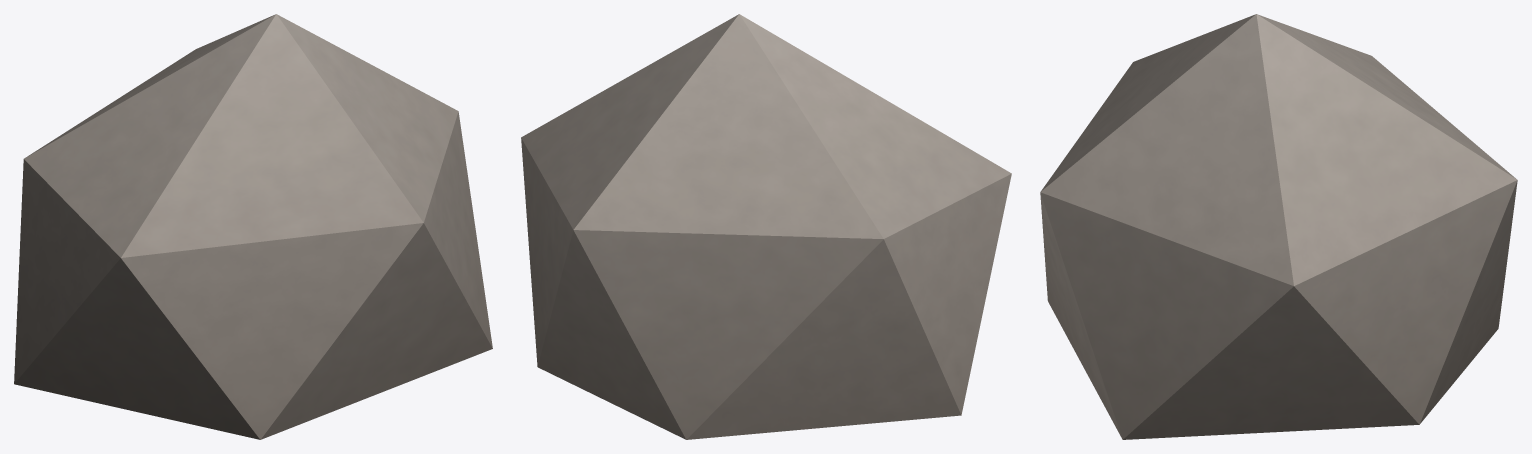
Rendered from rock.glb.
The picture shows the model from 3 angles, left to right: view 1: azimuth 30°, elevation 25°; view 2: azimuth 150°, elevation 25°; view 3: azimuth 270°, elevation 25°; orthographic projection. The views are drawn at different scales.
Parts seen in each view (by area): view 1: Icosphere; view 2: Icosphere; view 3: Icosphere.
Part boxes in pixels (<box>): Icosphere: <box>14,14,492,439</box>; Icosphere: <box>521,14,1011,439</box>; Icosphere: <box>1040,14,1517,439</box>.
Size of the model in its own units: 0.9616 by 0.6786 by 0.8475.
Materials: 1 (1 with a texture image).
